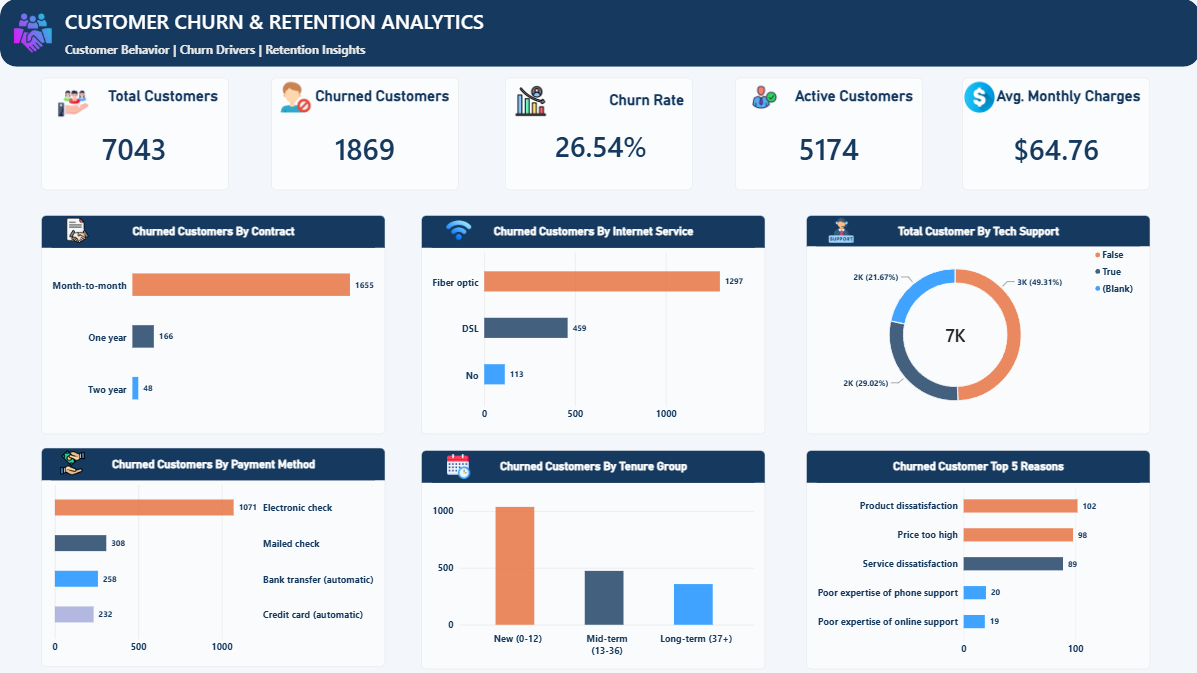

Layout of this report page (visuals, bound fields, positions):
{"tool":"powerbi","page":{"name":"Page 1","canvas":[1920,1080],"ordinal":0},"visuals":[{"type":"card","title":"Total Customers","fields":{"Values":["telco_churn_cleaned.Total Customer"]},"box":[66,126,300,180],"z":0},{"type":"card","title":"Churned Customers","fields":{"Values":["telco_churn_cleaned.Churned Customers"]},"box":[434,126,300,180],"z":1000},{"type":"card","title":"Churn Rate","fields":{"Values":["telco_churn_cleaned.Churn_Rate"]},"box":[808,126,300,180],"z":2000},{"type":"clusteredBarChart","title":"Churned Customers By Contract","fields":{"Category":["telco_churn_cleaned.Contract"],"Y":["telco_churn_cleaned.Churned Customers"]},"box":[65.1,345.6,550.1,350],"z":3000},{"type":"card","title":"Active Customers","fields":{"Values":["telco_churn_cleaned.Active Customer"]},"box":[1176,126,300,180],"z":4000},{"type":"card","title":"Avg. Monthly Charges","fields":{"Values":["telco_churn_cleaned.Aavrage Monthly Charge"]},"box":[1540,126,300,180],"z":5000},{"type":"clusteredBarChart","title":"Churned Customers By Payment Method","fields":{"Category":["telco_churn_cleaned.Payment_Method"],"Y":["telco_churn_cleaned.Churned Customers"]},"box":[65.1,718.4,550,350],"z":6000},{"type":"columnChart","title":"Churned Customers By Tenure Group","fields":{"Category":["telco_churn_cleaned.Tenure_Group"],"Y":["telco_churn_cleaned.Churned Customers"]},"box":[674,722,550,350],"z":7000},{"type":"clusteredBarChart","title":"Churned Customers By  Internet Service","fields":{"Category":["telco_churn_cleaned.Internet_Service"],"Y":["telco_churn_cleaned.Churned Customers"]},"box":[673.2,345.6,550,350],"z":8000},{"type":"donutChart","title":"Total Customer By Tech Support","fields":{"Category":["telco_churn_cleaned.Tech_Support"],"Y":["telco_churn_cleaned.Total Customer"]},"box":[1290.3,345.6,550,350],"z":9000},{"type":"shape","box":[0,0,1920.1,108.6],"z":10000},{"type":"textbox","box":[103.2,14.5,684.1,54.3],"z":11000},{"type":"textbox","box":[103.2,68.8,704,27.1],"z":12000},{"type":"image","box":[1326.5,350,40,40],"z":14000},{"type":"image","box":[19.9,0,65.1,108.6],"z":15000},{"type":"image","box":[821.6,137.5,54,50],"z":16000},{"type":"image","box":[445.2,132.1,54,50],"z":17000},{"type":"image","box":[1195,132.1,54,50],"z":18000},{"type":"image","box":[1540,132.1,54,50],"z":20000},{"type":"image","box":[89,142,54.3,50.7],"z":21000},{"type":"image","box":[714,727,40,40],"z":21001},{"type":"image","box":[96,721,40,40],"z":21002},{"type":"image","box":[103.2,349.3,39.8,39.8],"z":21003},{"type":"image","box":[714.8,349.3,40,40],"z":21004},{"type":"barChart","title":"Churned Customer Top 5 Reasons","fields":{"Category":["telco_churn_cleaned.Churn_Reason"],"Y":["CountNonNull(telco_churn_cleaned.CustomerID)"]},"box":[1290,722,550,350],"z":21005}]}

Visuals, with their boxes in screenshot pixels (x1, y1, x2, y2), scaled from the page's 1920x1080 canvas onto the 1197x673 screenshot:
"Total Customers" card: 41, 79, 228, 191
"Churned Customers" card: 271, 79, 458, 191
"Churn Rate" card: 504, 79, 691, 191
"Churned Customers By Contract" clusteredBarChart: 41, 215, 384, 433
"Active Customers" card: 733, 79, 920, 191
"Avg. Monthly Charges" card: 960, 79, 1147, 191
"Churned Customers By Payment Method" clusteredBarChart: 41, 448, 383, 666
"Churned Customers By Tenure Group" columnChart: 420, 450, 763, 668
"Churned Customers By  Internet Service" clusteredBarChart: 420, 215, 763, 433
"Total Customer By Tech Support" donutChart: 804, 215, 1147, 433
shape: 0, 0, 1196, 68
textbox: 64, 9, 491, 43
textbox: 64, 43, 503, 60
image: 827, 218, 852, 243
image: 12, 0, 53, 68
image: 512, 86, 546, 117
image: 278, 82, 311, 113
image: 745, 82, 779, 113
image: 960, 82, 994, 113
image: 55, 88, 89, 120
image: 445, 453, 470, 478
image: 60, 449, 85, 474
image: 64, 218, 89, 242
image: 446, 218, 471, 243
"Churned Customer Top 5 Reasons" barChart: 804, 450, 1147, 668
